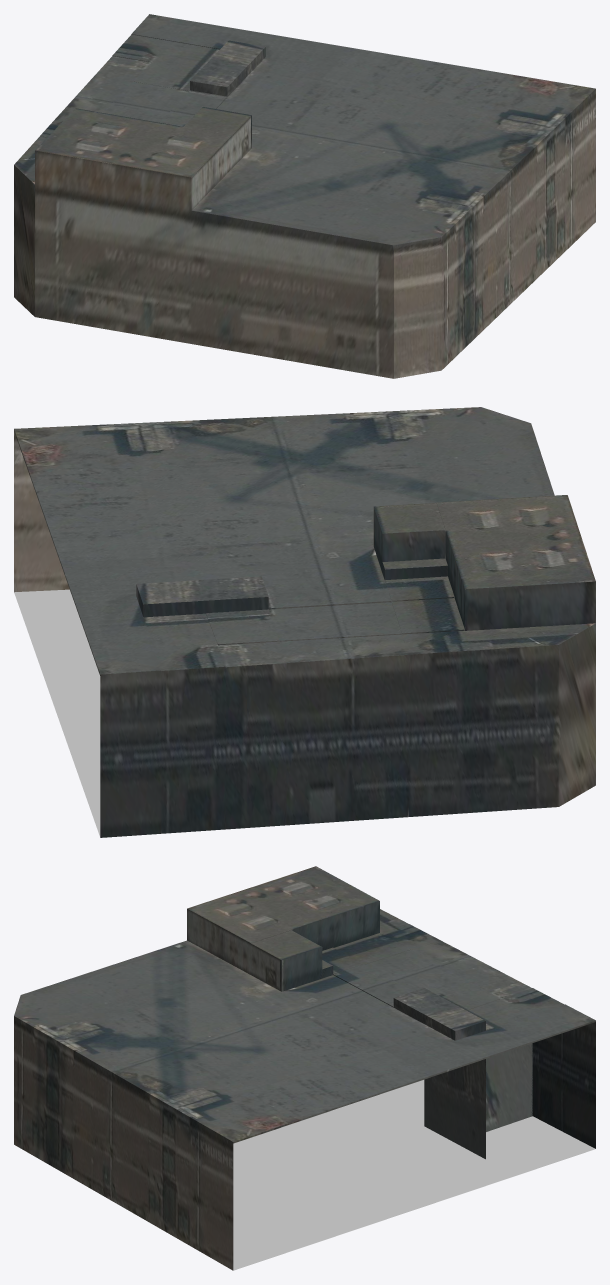
The model's file is {2D62DDBD-F87B-48CC-9ABF-95C68498EDDC}.dae.
3 renders of one model, top to bottom at view 1: azimuth 30°, elevation 25°; view 2: azimuth 150°, elevation 25°; view 3: azimuth 270°, elevation 25°, orthographic. The views are drawn at different scales.
Bounding box in the file's own units: 58.67 × 59.15 × 18.01.
Materials: 10 (9 with a texture image).
